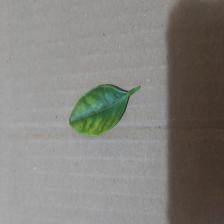greening: (67, 79, 143, 138)
